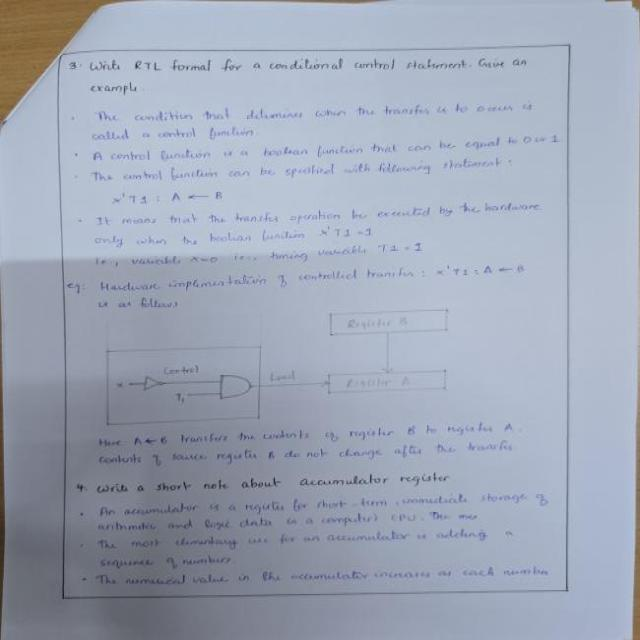Figure Detection - v3 Dataset Version2: (89, 301, 482, 431)
